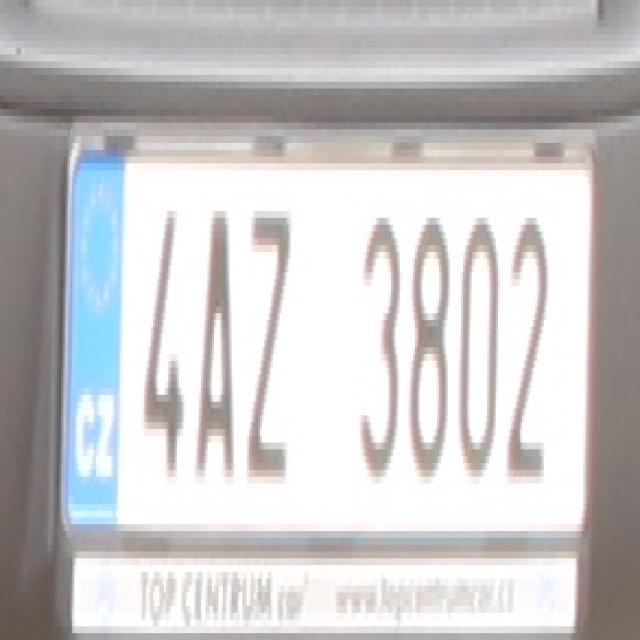0: (457, 204, 498, 477)
2: (504, 204, 544, 477)
3: (358, 204, 398, 477)
4: (144, 204, 184, 477)
8: (406, 204, 448, 477)
A: (192, 204, 234, 477)
Z: (245, 198, 288, 490)
